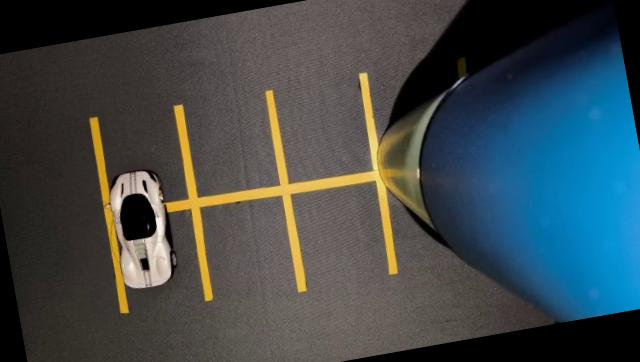toy_car: (72, 132, 210, 312)
